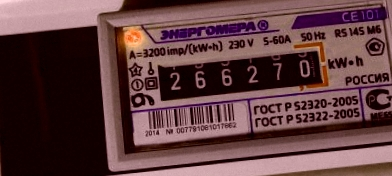0: (296, 57, 311, 78)
2: (166, 70, 183, 92), (244, 63, 259, 84)
6: (192, 68, 207, 90), (219, 66, 234, 88)
7: (270, 61, 283, 81)
screen: (146, 38, 335, 108)
